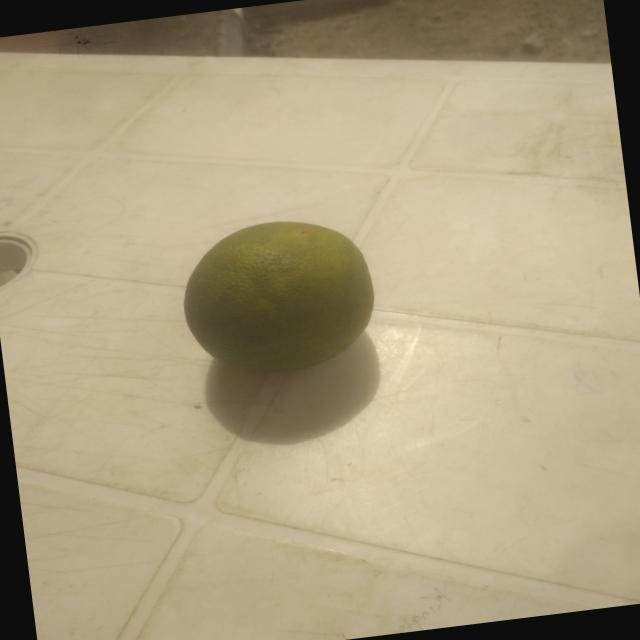agrume: (167, 199, 389, 389)
